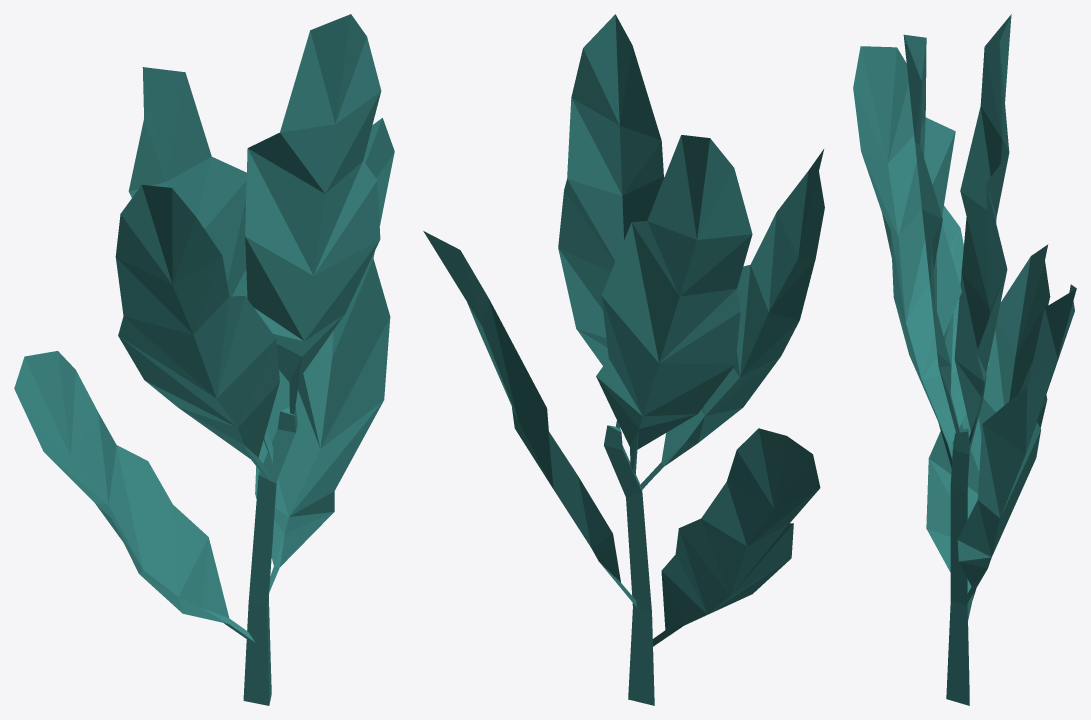
The model's file is SM_Seaweed_Sea_Beech_A.fbx.
3 views of the same model, side by side, from view 1: azimuth 30°, elevation 25°; view 2: azimuth 150°, elevation 25°; view 3: azimuth 270°, elevation 25° (orthographic). The views are drawn at different scales.
Visible parts, largest first — view 1: seaweed-sea-beech-a; view 2: seaweed-sea-beech-a; view 3: seaweed-sea-beech-a.
Part boxes in pixels (left/top/right/bottom): seaweed-sea-beech-a: left=14, top=14, right=394, bottom=705; seaweed-sea-beech-a: left=423, top=14, right=824, bottom=705; seaweed-sea-beech-a: left=853, top=14, right=1076, bottom=705.
Bounding box in the file's own units: 0.6964 × 1.18 × 0.3441.
